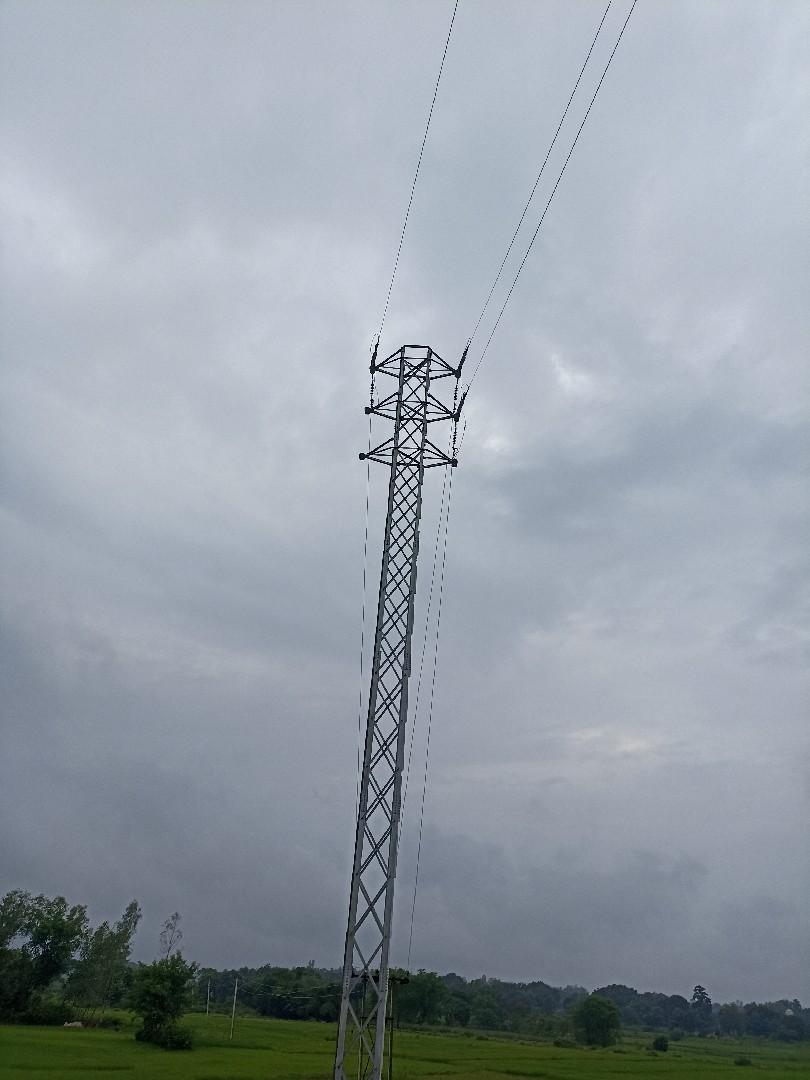Microwave Antenna: (333, 340, 468, 1068)
